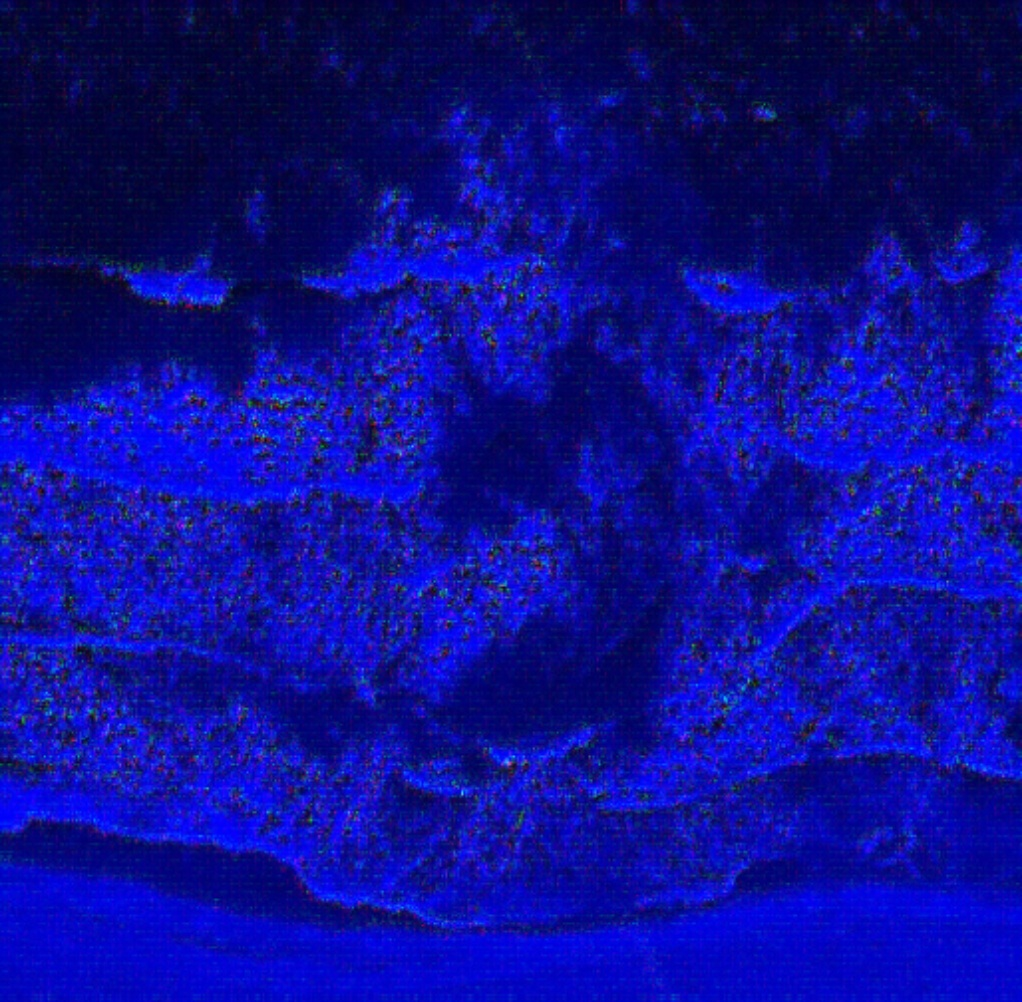rip_current: (358, 105, 741, 776)
